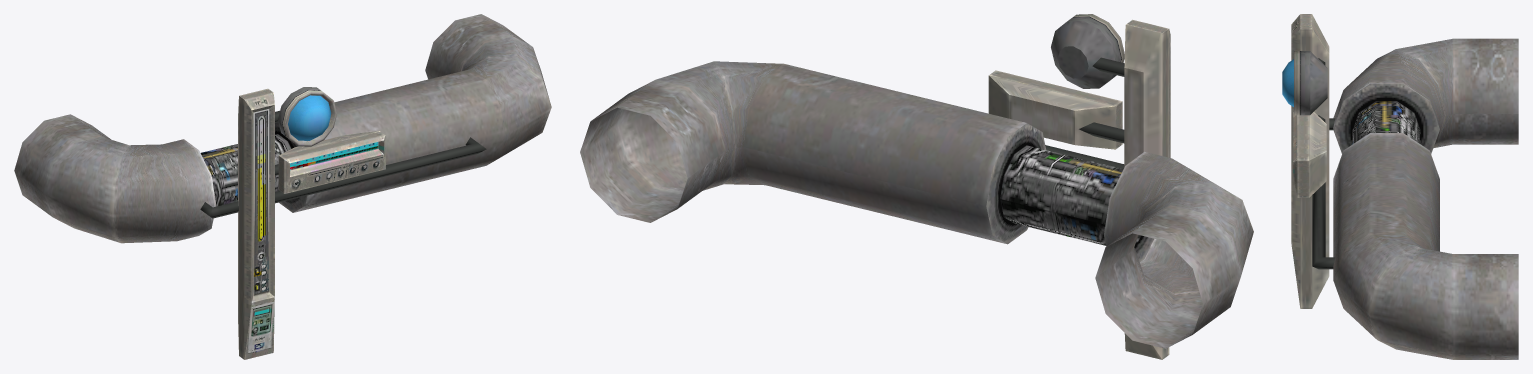
The model's file is pob_station_conduit_l0.fbx.
The picture shows the model from 3 angles, left to right: view 1: azimuth 30°, elevation 25°; view 2: azimuth 150°, elevation 25°; view 3: azimuth 270°, elevation 25°; orthographic projection. The views are drawn at different scales.
Parts seen in each view (by area): view 1: mesh_node; view 2: mesh_node; view 3: mesh_node.
Boxes of the visible parts, x1,y1,x2,y2 form: mesh_node: (14, 14, 551, 359); mesh_node: (580, 14, 1253, 359); mesh_node: (1282, 14, 1518, 359).
Size of the model in its own units: 1.01 by 0.5073 by 0.3889.
